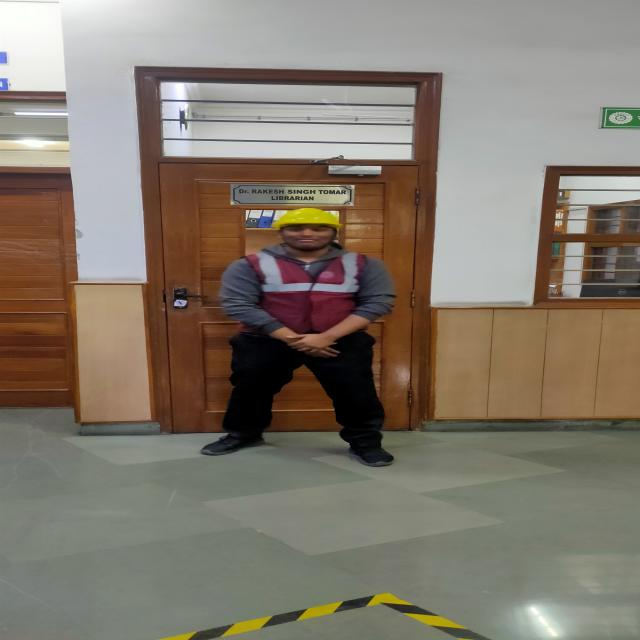safe: (195, 208, 396, 466)
